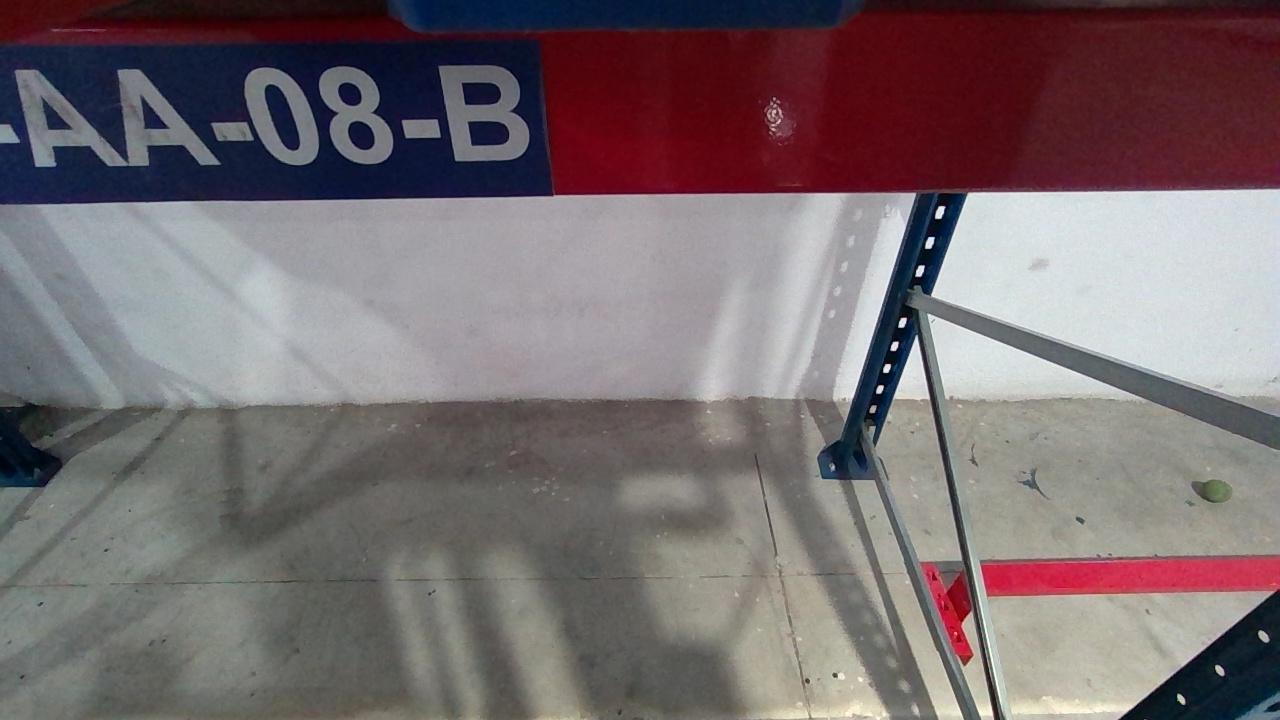h_rack: (0, 15, 1279, 202)
